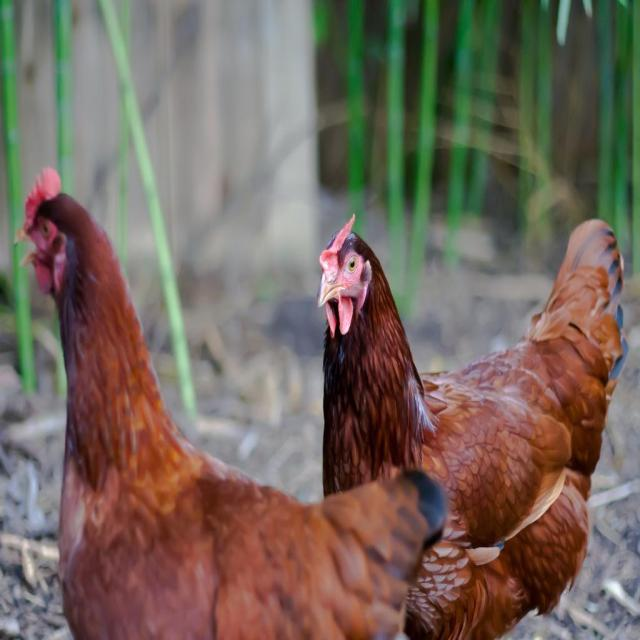Chicken: (12, 168, 448, 640), (311, 214, 619, 629)
